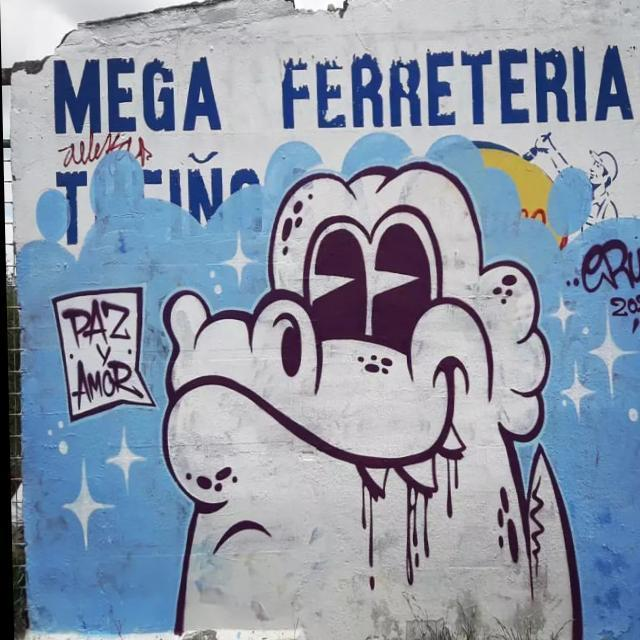-: (143, 165, 587, 640), (43, 281, 154, 421), (569, 231, 640, 324), (56, 136, 156, 184)
